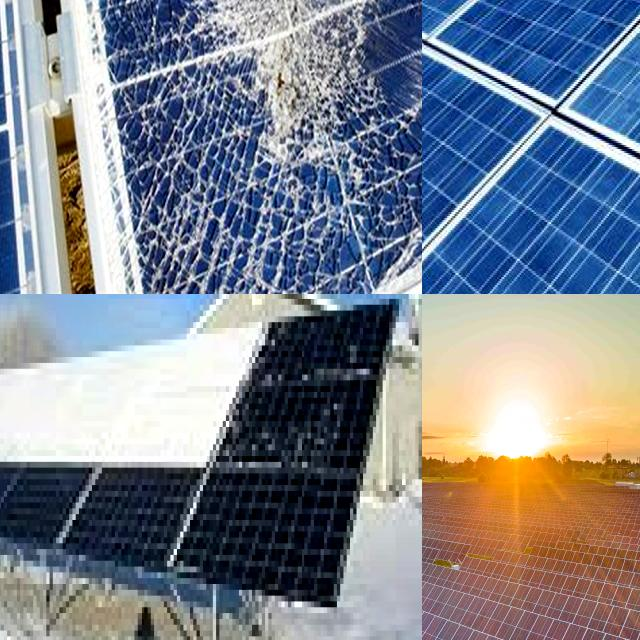crack: (422, 32, 607, 294), (422, 104, 640, 294), (422, 0, 549, 289), (422, 0, 640, 163), (422, 0, 623, 77)
hotspot: (185, 0, 386, 173), (150, 212, 282, 290)
panel: (155, 318, 265, 476), (11, 342, 137, 472), (302, 351, 358, 477), (0, 372, 56, 474)
